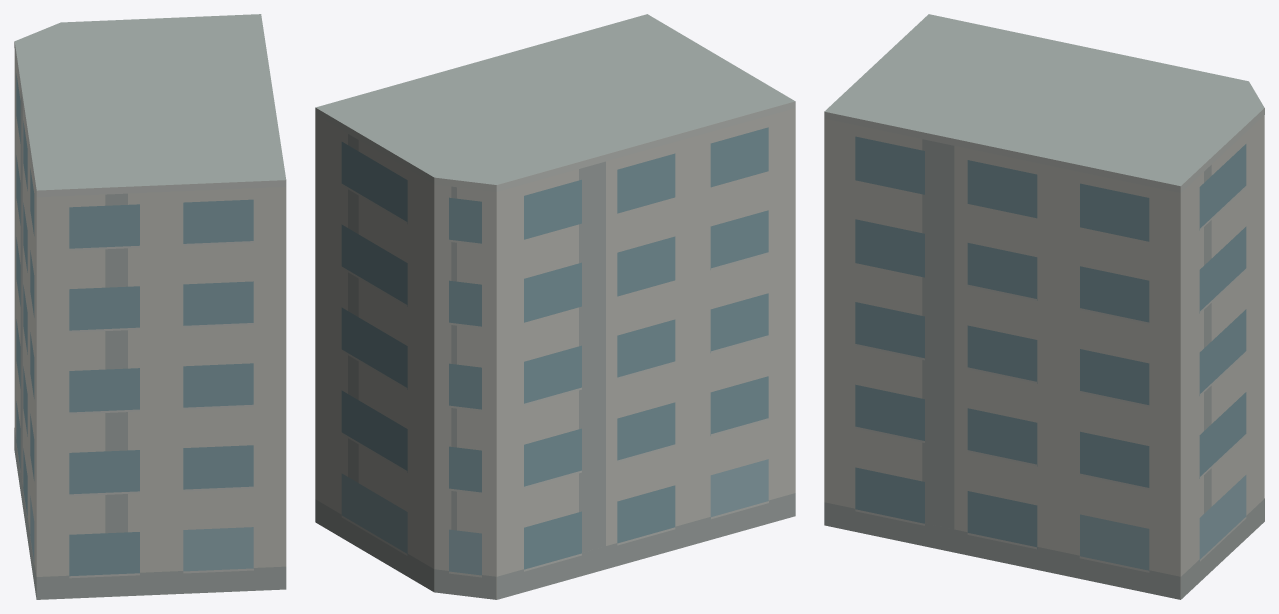
Rendered from survey-upis-32886031.glb.
3 views of the same model, side by side, from view 1: azimuth 30°, elevation 25°; view 2: azimuth 150°, elevation 25°; view 3: azimuth 270°, elevation 25° (orthographic).
Parts seen in each view (by area): view 1: survey-upis-32886031.tmp; view 2: survey-upis-32886031.tmp; view 3: survey-upis-32886031.tmp.
Boxes of the visible parts, left/top/right/bottom form: survey-upis-32886031.tmp: left=14, top=14, right=286, bottom=599; survey-upis-32886031.tmp: left=315, top=14, right=795, bottom=599; survey-upis-32886031.tmp: left=824, top=14, right=1264, bottom=599.
Bounding box in the file's own units: 12.91 × 14.45 × 13.95.
